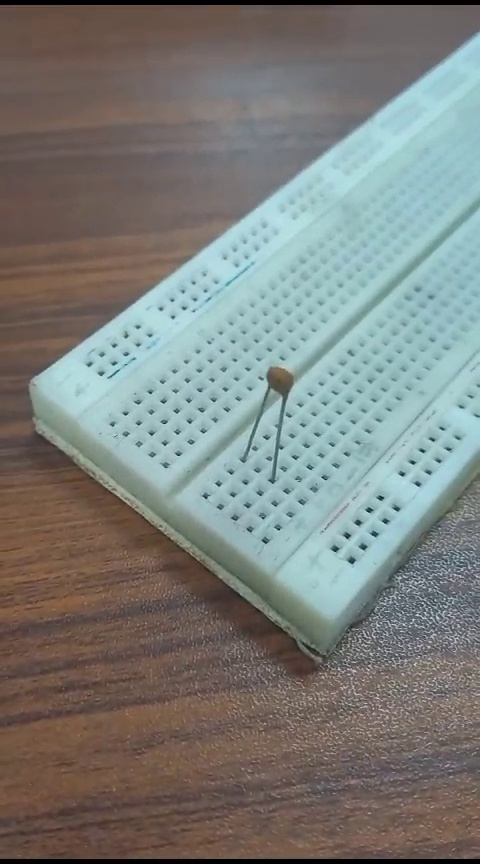ceramic capacitor: (254, 361, 303, 481)
